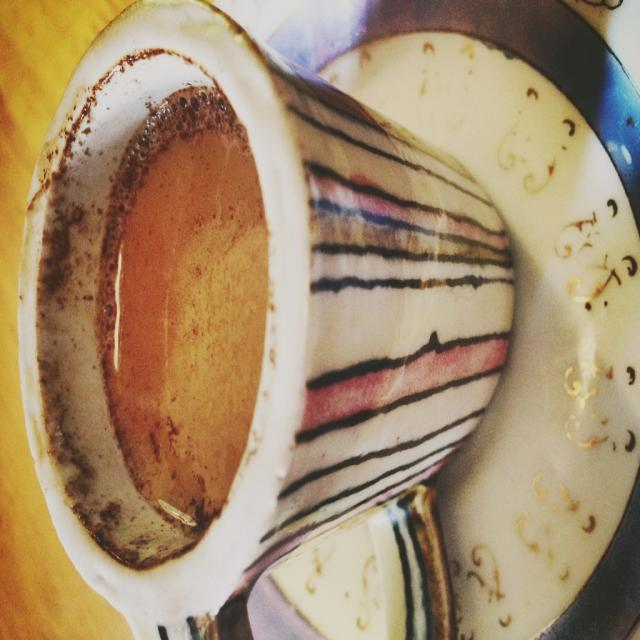Coffee: (35, 46, 267, 572)
